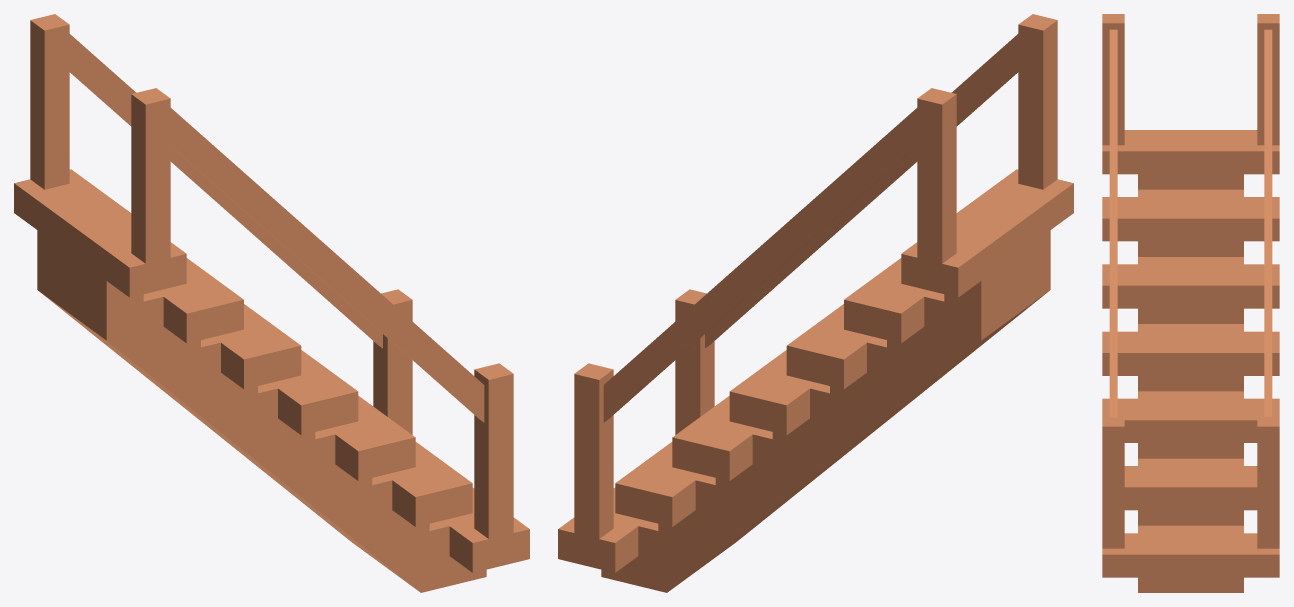
File: leader.fbx
3 views of the same model, side by side, from view 1: azimuth 30°, elevation 25°; view 2: azimuth 150°, elevation 25°; view 3: azimuth 270°, elevation 25° (orthographic). The views are drawn at different scales.
Parts seen in each view (by area): view 1: stairs_wood_railing_0; view 2: stairs_wood_railing_0; view 3: stairs_wood_railing_0.
Boxes of the visible parts, left/top/right/bottom form: stairs_wood_railing_0: left=14, top=14, right=529, bottom=592; stairs_wood_railing_0: left=558, top=14, right=1073, bottom=592; stairs_wood_railing_0: left=1102, top=14, right=1279, bottom=592.
Bounding box in the file's own units: 10 × 13.8 × 5.
